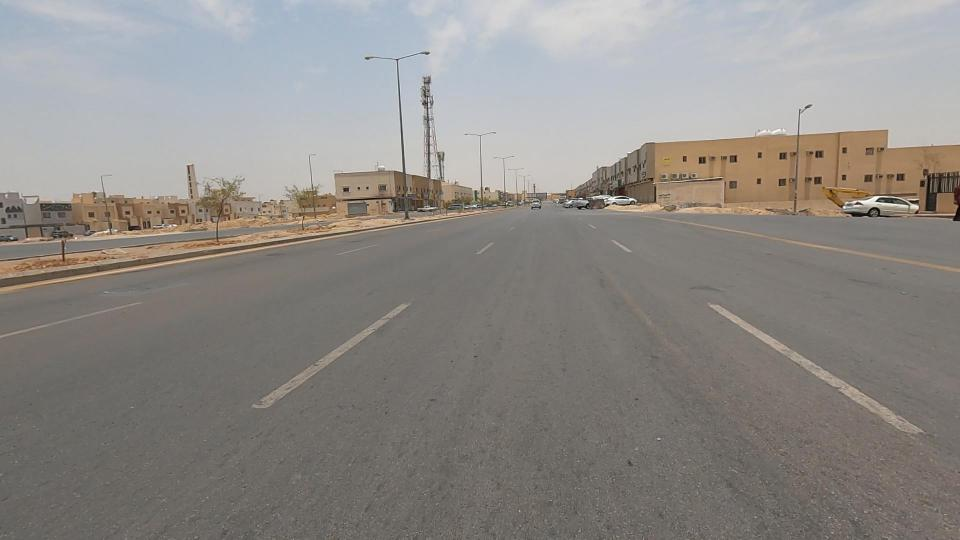SAND_ON_ROAD: (657, 178, 804, 239), (587, 182, 676, 232)
